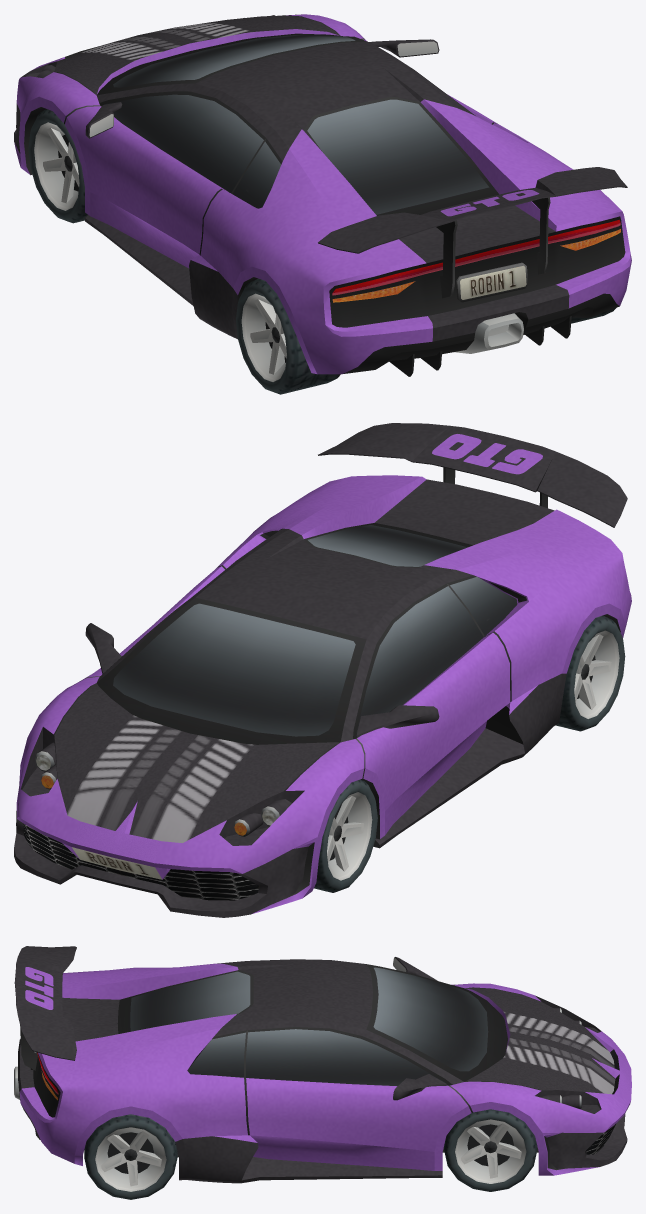
Rendered from VHC0110004.FBX.
The picture shows the model from 3 angles, top to bottom: view 1: azimuth 30°, elevation 25°; view 2: azimuth 150°, elevation 25°; view 3: azimuth 270°, elevation 25°; orthographic projection. The views are drawn at different scales.
Parts seen in each view (by area): view 1: smVHC0110004; view 2: smVHC0110004; view 3: smVHC0110004.
Boxes of the visible parts, x1=… form: smVHC0110004: x1=14, y1=14, x2=631, y2=394; smVHC0110004: x1=14, y1=423, x2=631, y2=917; smVHC0110004: x1=14, y1=946, x2=631, y2=1199.
Bounding box in the file's own units: 184 × 98.6 × 355.
Materials: 1 (1 with a texture image).
